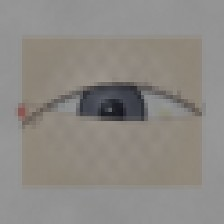pinguecula_lesion: (150, 101, 179, 125)
